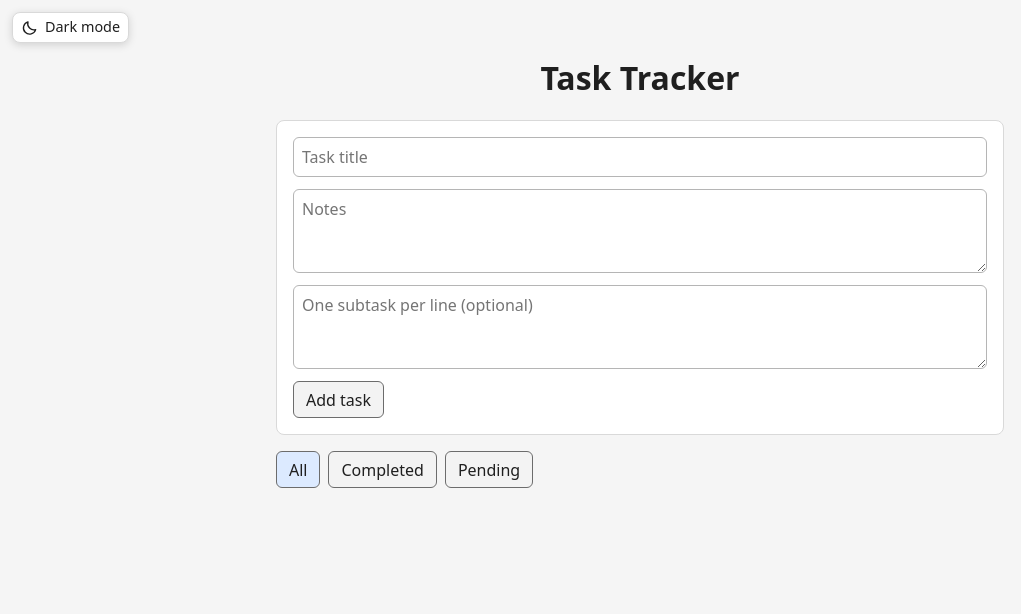
Scenario: App › adds a task from the form
In the field labelled "Task title": {"x": 640, "y": 157} [293,137,987,177], type "Plan sprint"
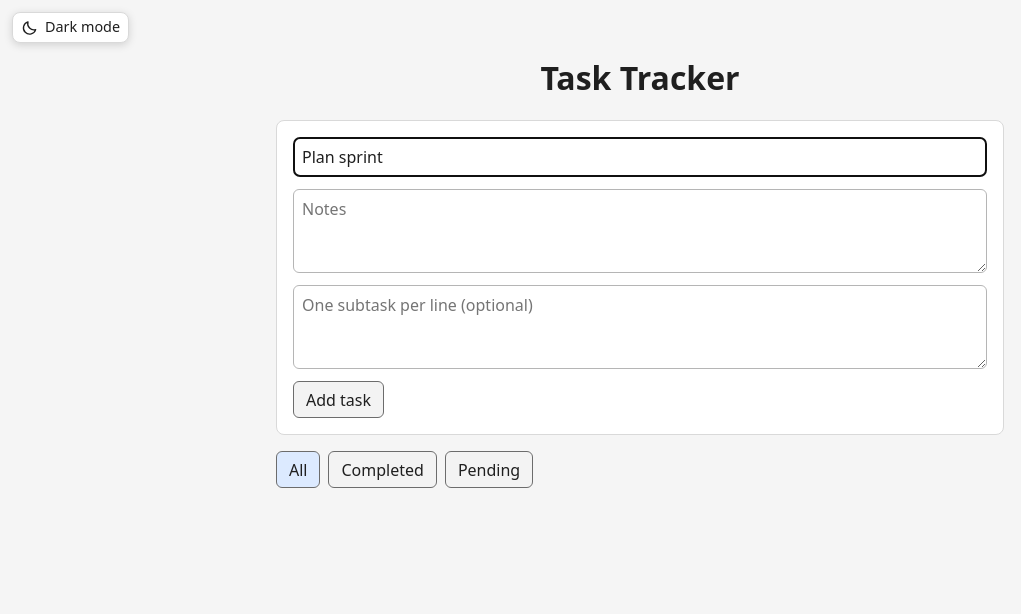
Click the button "Add task": {"x": 338, "y": 400} [293,381,384,418]
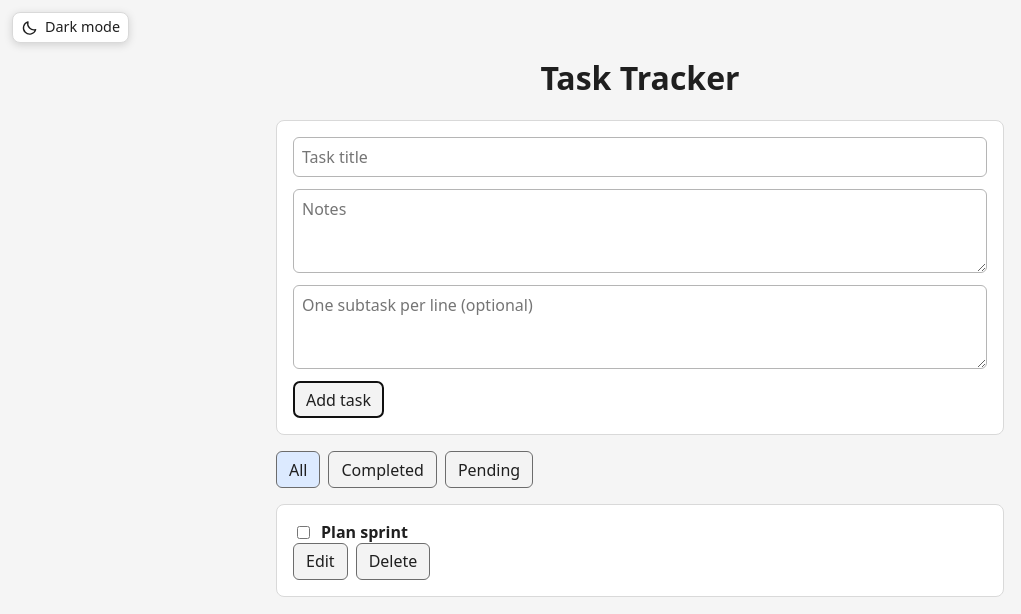
Expected: the text "Plan sprint" is shown, [321,521,408,543]
